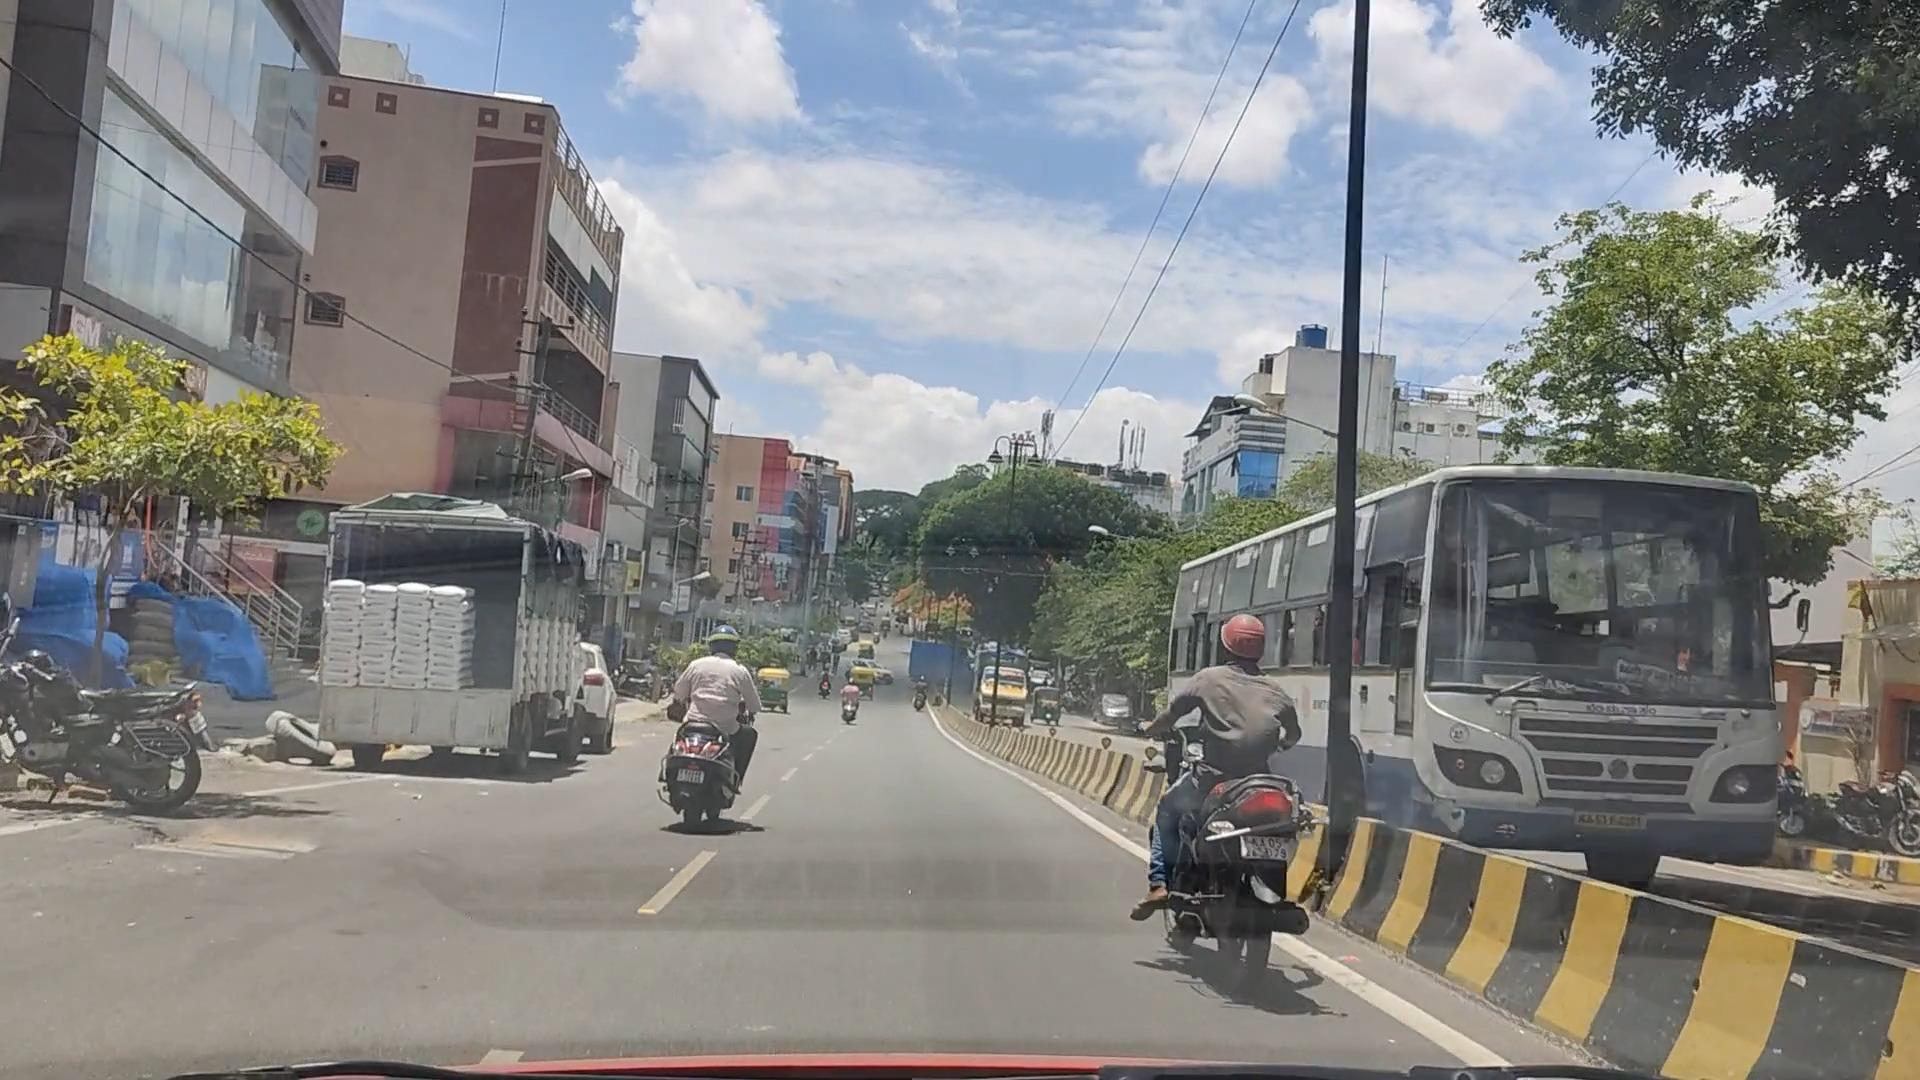LMV: (306, 488, 601, 811)
